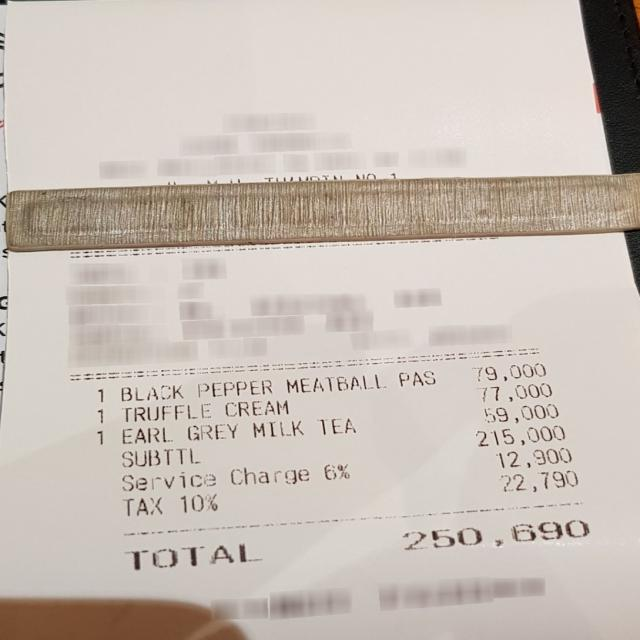text: (402, 517, 589, 552), (123, 543, 261, 570), (474, 424, 565, 448), (121, 470, 215, 492), (286, 372, 385, 392), (498, 470, 578, 493), (494, 448, 571, 470), (123, 402, 210, 421), (483, 402, 558, 424), (120, 448, 198, 468), (229, 466, 311, 485), (475, 382, 551, 402), (197, 378, 270, 397), (474, 362, 543, 382), (223, 399, 287, 416), (120, 384, 182, 401), (119, 426, 171, 444), (186, 422, 236, 440), (252, 419, 303, 436), (122, 496, 161, 516), (178, 493, 216, 512), (318, 418, 354, 434), (397, 371, 434, 386), (323, 463, 349, 479), (95, 408, 105, 424), (95, 429, 105, 445), (95, 388, 105, 403)
